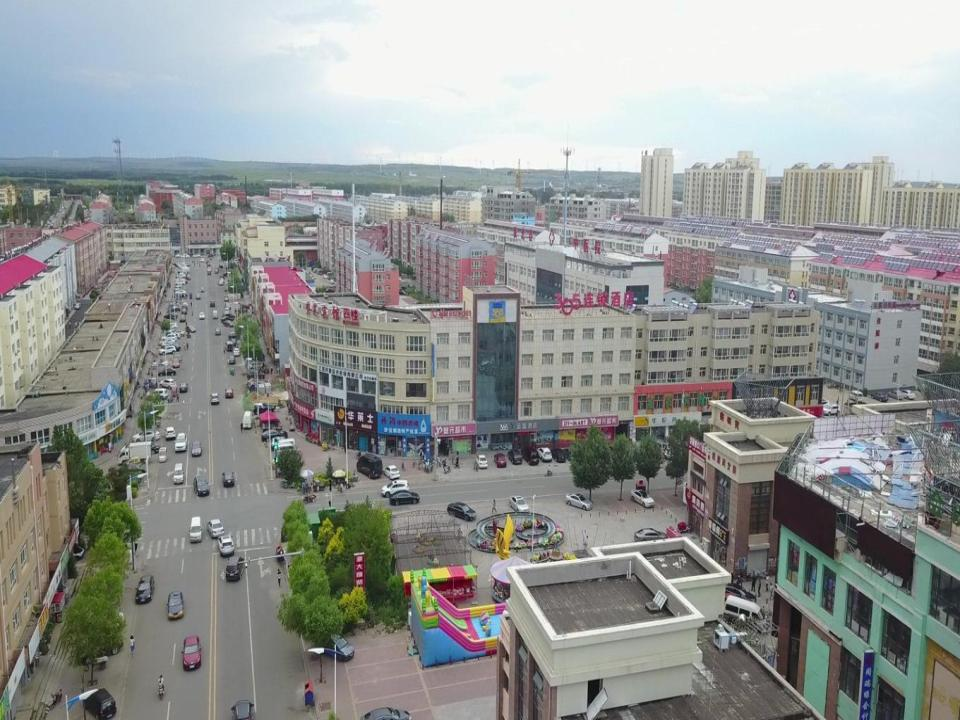car: (75, 630, 124, 664), (314, 630, 354, 662), (83, 687, 117, 720), (181, 634, 202, 671), (723, 583, 757, 605), (358, 706, 411, 720), (633, 527, 668, 545), (446, 501, 477, 521), (135, 574, 155, 603), (166, 590, 186, 619), (380, 478, 409, 498), (564, 492, 593, 511), (230, 699, 255, 720), (225, 556, 245, 581), (389, 490, 419, 506), (192, 474, 210, 498), (630, 490, 655, 507), (509, 494, 529, 514), (132, 428, 160, 442), (217, 534, 234, 557), (119, 464, 147, 477), (206, 518, 224, 538), (136, 441, 161, 454), (260, 430, 287, 442), (535, 446, 552, 463), (174, 433, 188, 453), (382, 465, 400, 480), (821, 403, 841, 416), (549, 447, 566, 462), (221, 470, 235, 488), (121, 455, 142, 467), (254, 402, 274, 414), (507, 449, 522, 465), (270, 436, 288, 449), (474, 454, 488, 470), (150, 388, 168, 400), (870, 390, 888, 402), (493, 452, 507, 467), (897, 389, 916, 400), (190, 441, 202, 458), (888, 389, 905, 401), (159, 378, 177, 389), (812, 398, 830, 409), (163, 426, 177, 440), (246, 370, 266, 379), (158, 345, 177, 354), (158, 367, 176, 376), (158, 446, 167, 463), (163, 344, 181, 352), (227, 331, 242, 340), (209, 392, 220, 404), (223, 387, 234, 399), (161, 334, 177, 342), (169, 329, 185, 336), (178, 382, 188, 393), (222, 312, 235, 320), (167, 331, 180, 339), (158, 338, 175, 344), (222, 319, 233, 328), (234, 306, 248, 313), (172, 355, 179, 368), (164, 322, 178, 328), (227, 355, 236, 364), (233, 347, 241, 357), (185, 325, 196, 332), (174, 290, 186, 296), (174, 285, 184, 292), (161, 341, 175, 346), (239, 303, 250, 309), (224, 302, 231, 311), (214, 327, 221, 335), (74, 302, 81, 310), (175, 277, 186, 282), (175, 280, 186, 285), (176, 273, 186, 278), (174, 283, 184, 288), (198, 312, 205, 319), (181, 252, 189, 258), (179, 314, 185, 322), (209, 299, 215, 307), (181, 303, 187, 310), (182, 301, 188, 308), (223, 307, 229, 314), (214, 266, 219, 274), (181, 308, 187, 314), (175, 252, 182, 257), (192, 253, 200, 257), (217, 280, 223, 285), (207, 268, 211, 275), (198, 258, 205, 262), (196, 293, 200, 299), (200, 286, 204, 292), (224, 295, 228, 301), (219, 262, 223, 267), (219, 278, 224, 282), (220, 274, 225, 278)
truck: (116, 442, 152, 463)
van: (721, 594, 769, 634), (356, 453, 382, 480), (521, 446, 540, 466), (188, 516, 202, 543), (276, 442, 298, 456), (276, 437, 296, 452), (172, 463, 185, 485), (242, 410, 253, 430), (848, 390, 864, 402), (225, 340, 233, 352), (212, 310, 219, 319)
